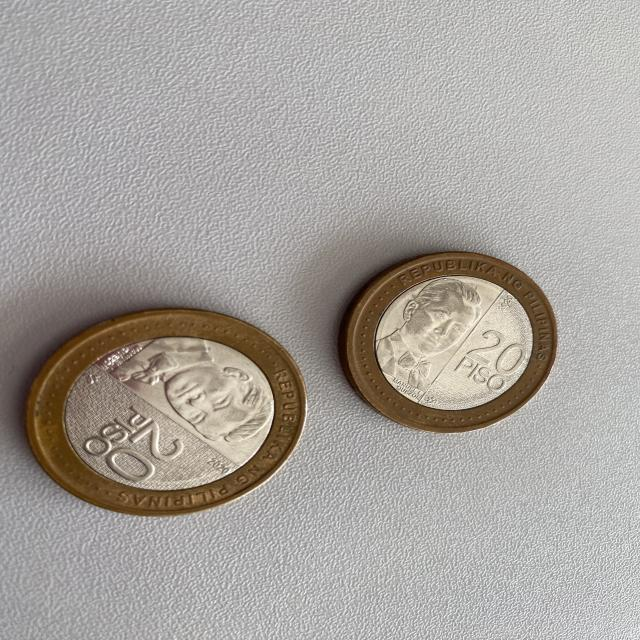20_New_Front: (102, 416, 183, 478), (470, 326, 528, 374)
